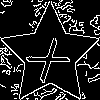X: (25, 30, 79, 84)
